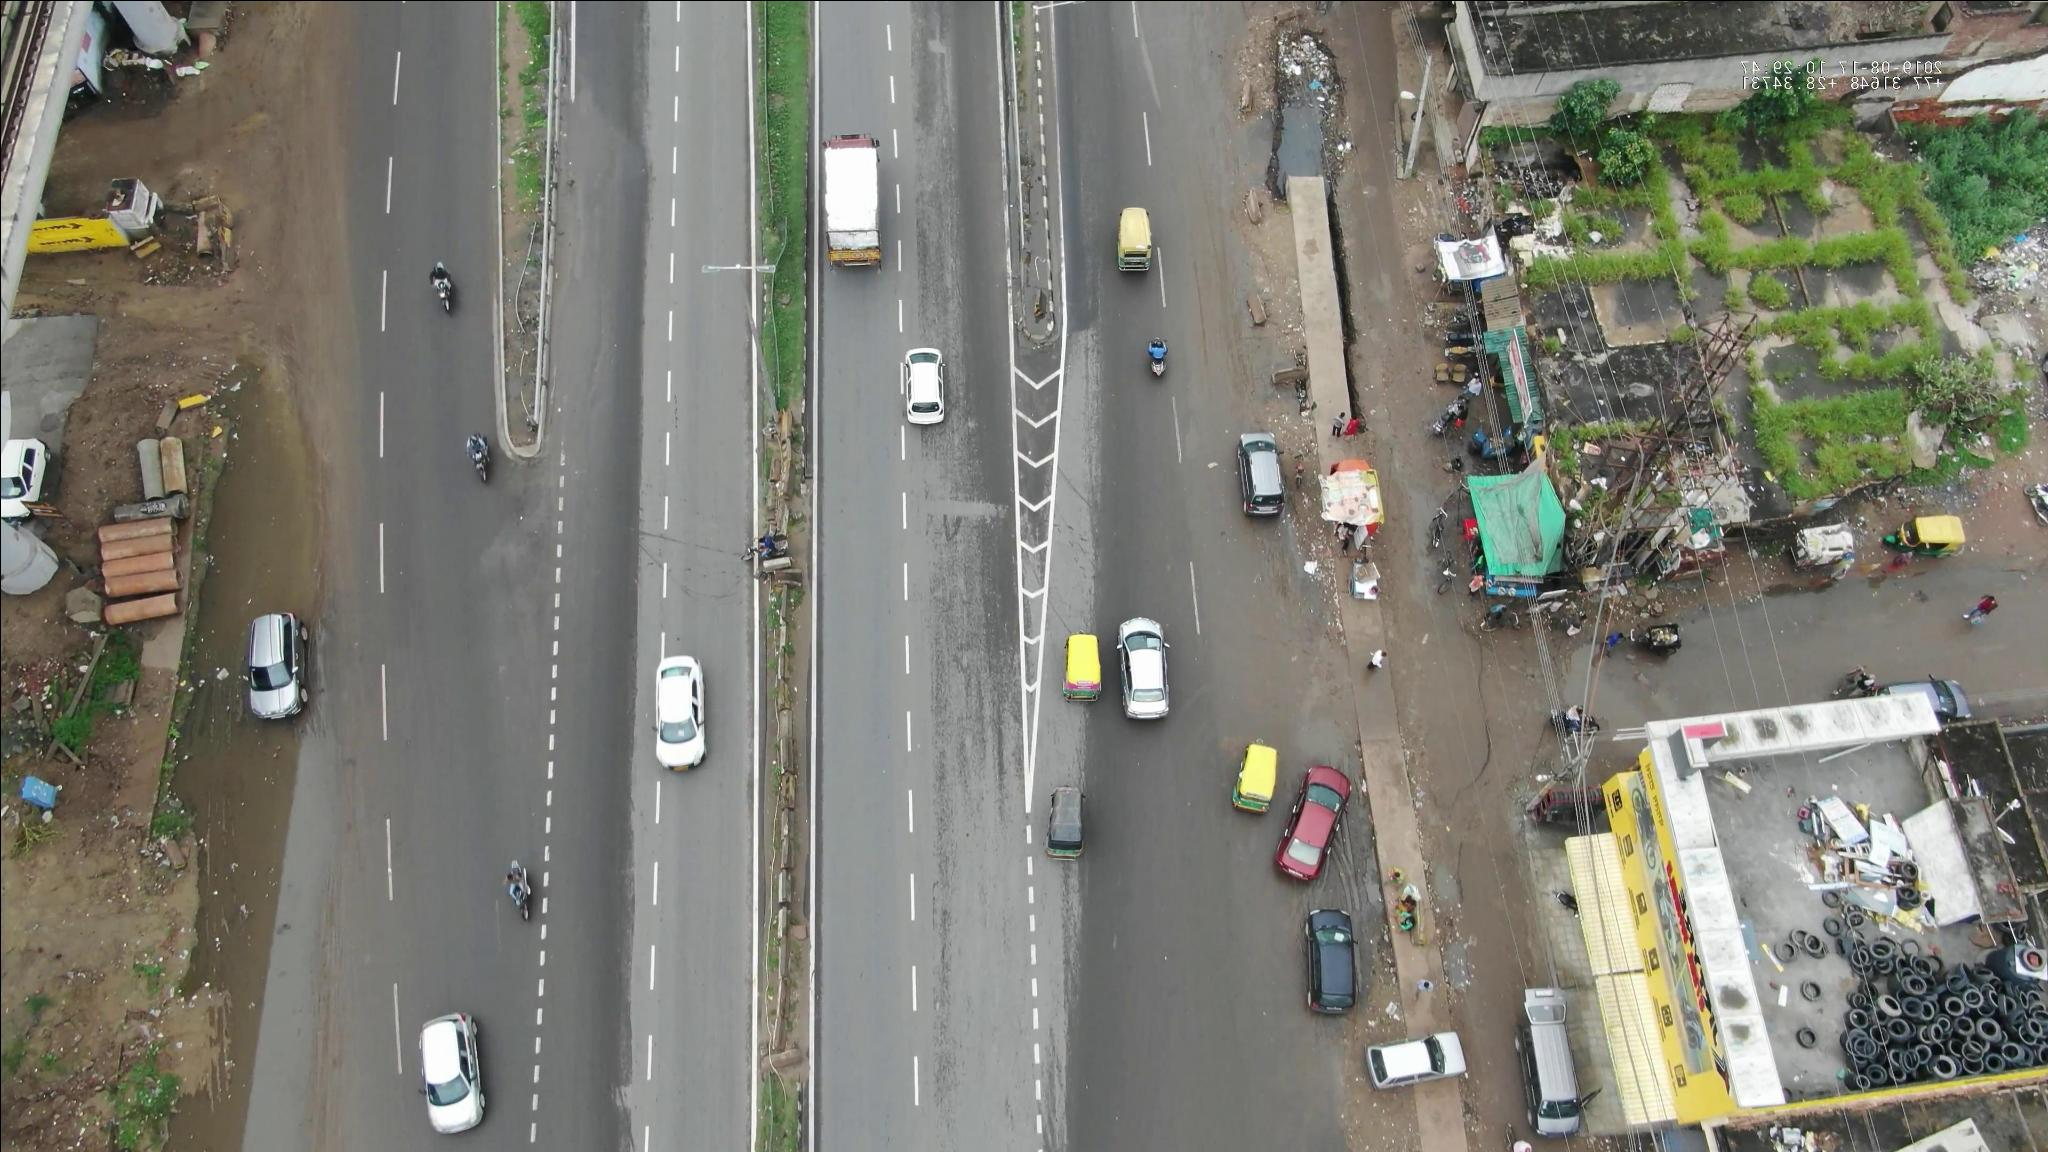Muddy_road: (1248, 542, 1356, 743), (1241, 162, 1300, 414)
Potholes: (1236, 8, 1364, 180)
Waterlogging: (141, 807, 349, 1151), (183, 397, 314, 813), (557, 77, 612, 302)
